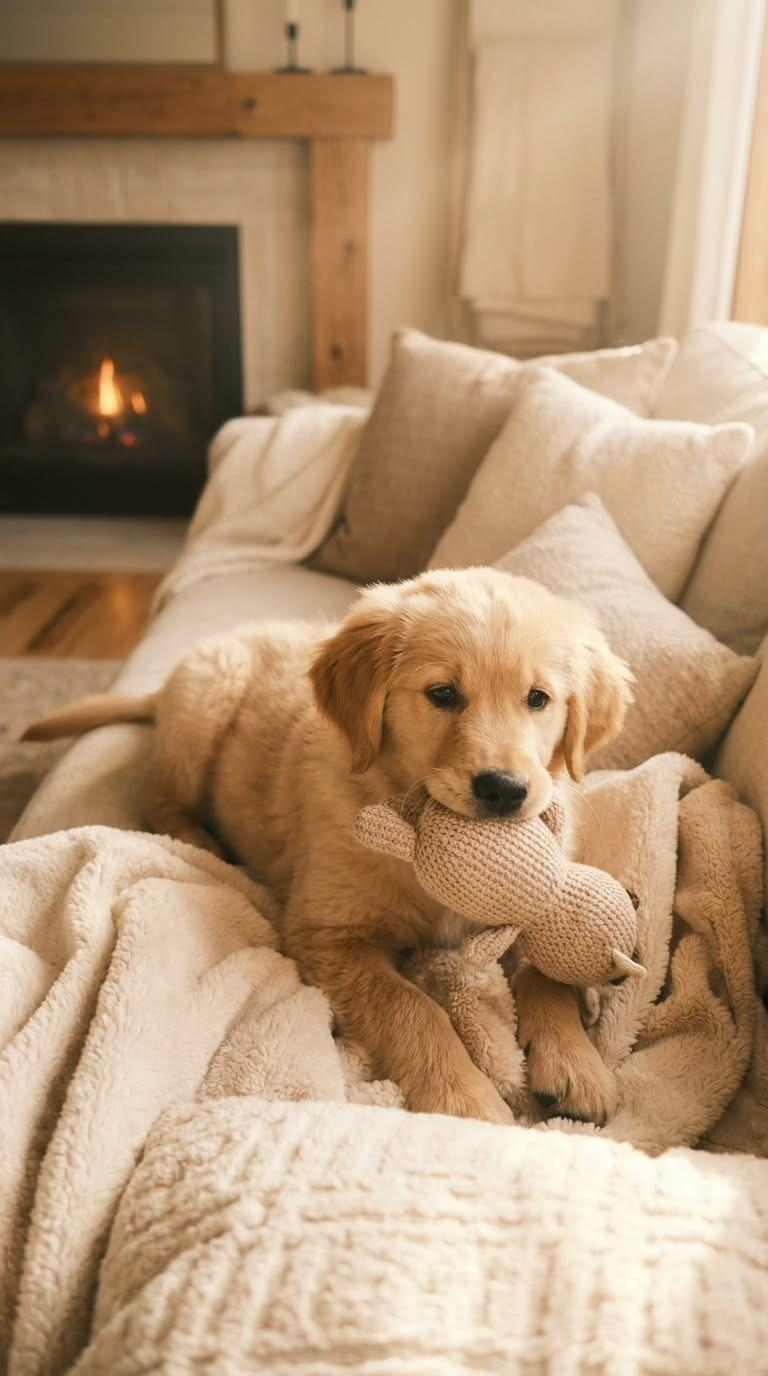puppy-dog: (19, 563, 635, 1132)
